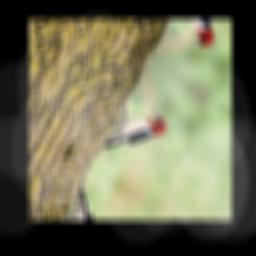Woodpecker: (103, 93, 172, 173)
